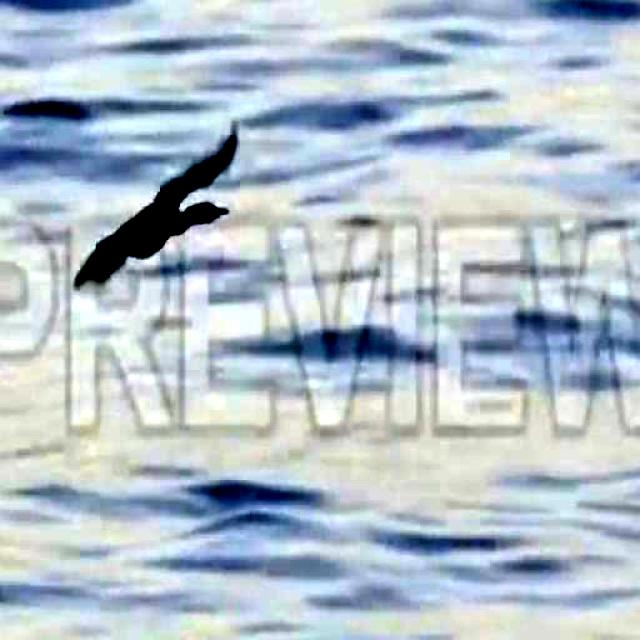airplane: (80, 105, 245, 284)
